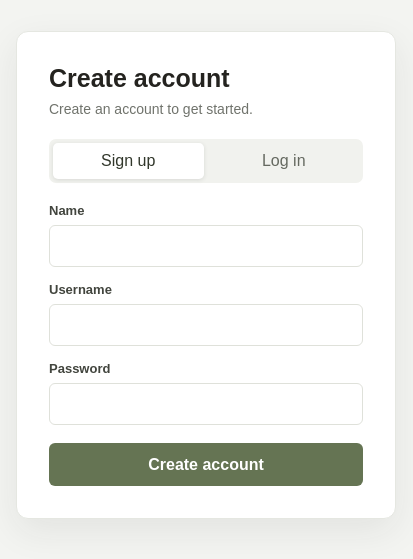
App › submits signup data directly to the signup API
The width and height of the screenshot is (413, 559).
Step 1. Type "Alex Morgan" into the field named "name" → {"x": 206, "y": 246}, box [49,225,363,267]
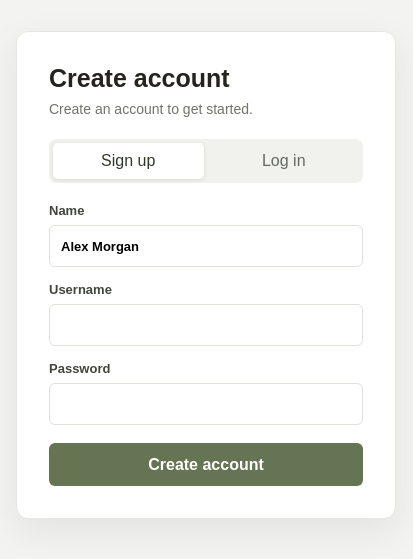
Step 2. Type "alex" into the field named "username" → {"x": 206, "y": 325}, box [49,304,363,346]
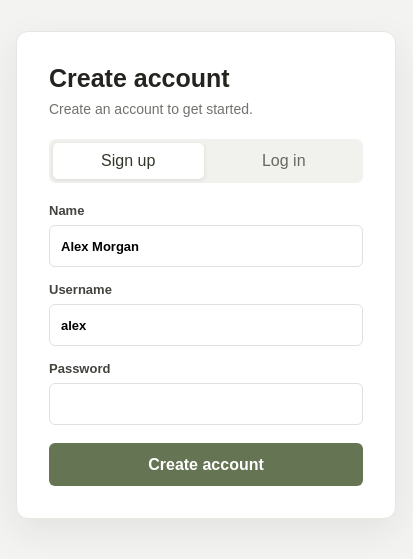
Step 3. Type "secret123" into the password field named "password" → {"x": 206, "y": 404}, box [49,383,363,425]
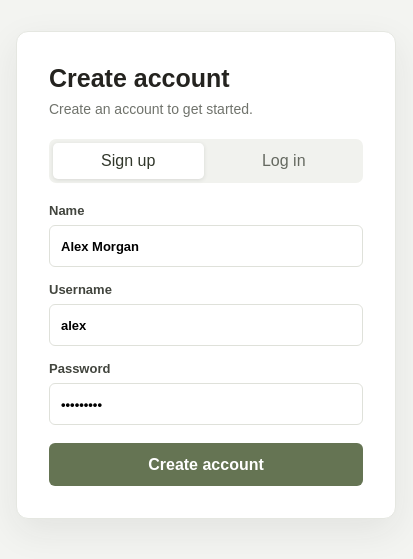
Step 4. Submit the form, box [49,203,363,486]
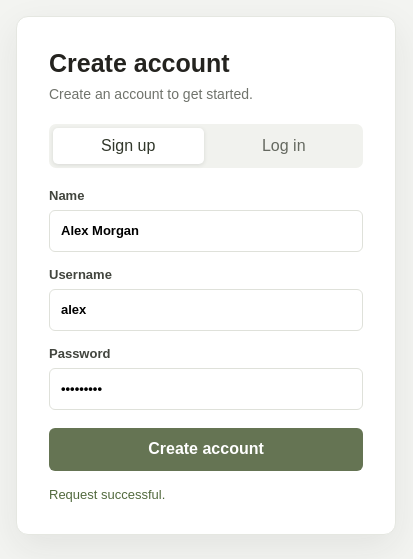
Expected: the message "Request successful." is shown, [49,486,165,502]
